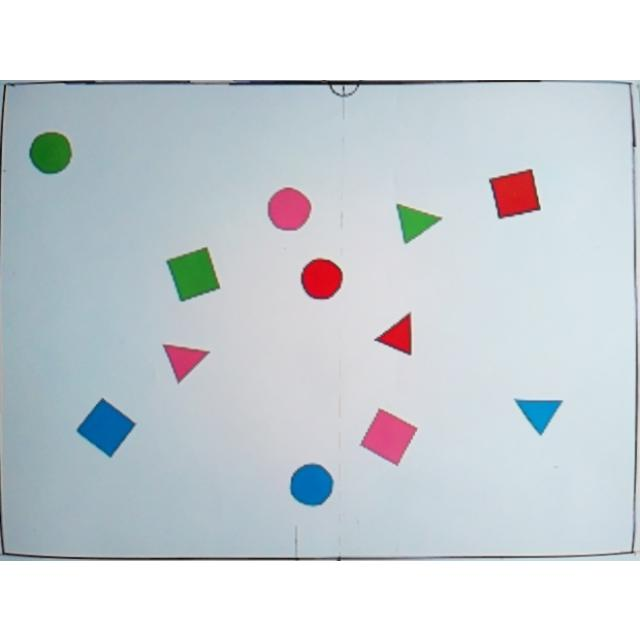blueCircle: (288, 462, 336, 506)
blueSquare: (74, 397, 138, 458)
blueTriangle: (512, 395, 564, 435)
greenCircle: (28, 130, 72, 174)
greenSquare: (166, 245, 222, 301)
greenTriangle: (393, 198, 442, 245)
pinkCircle: (268, 186, 312, 230)
pinkSquare: (358, 406, 418, 466)
pinkTriangle: (160, 341, 210, 385)
redCircle: (298, 255, 344, 303)
redSquare: (486, 165, 544, 221)
redTriangle: (372, 310, 416, 358)
